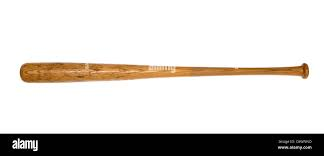baseball bat: (19, 62, 309, 82)
